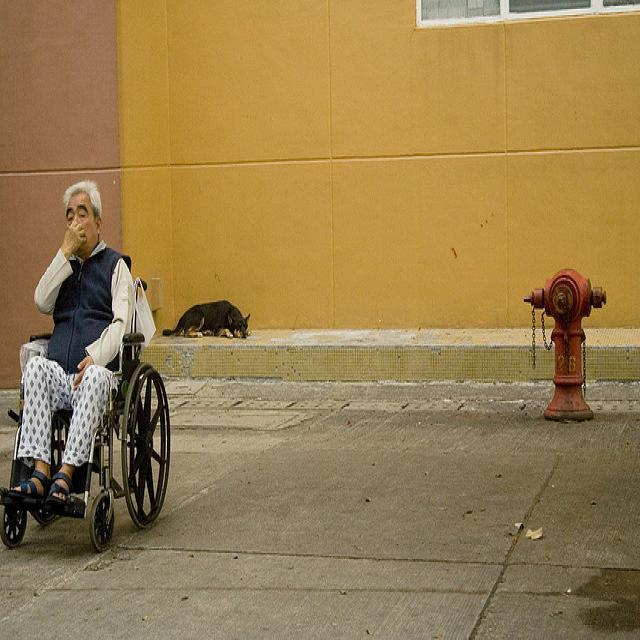fire_hydrant: (524, 266, 605, 418)
